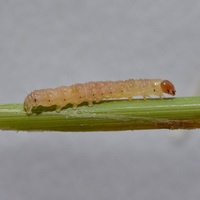insect: (24, 79, 175, 114)
